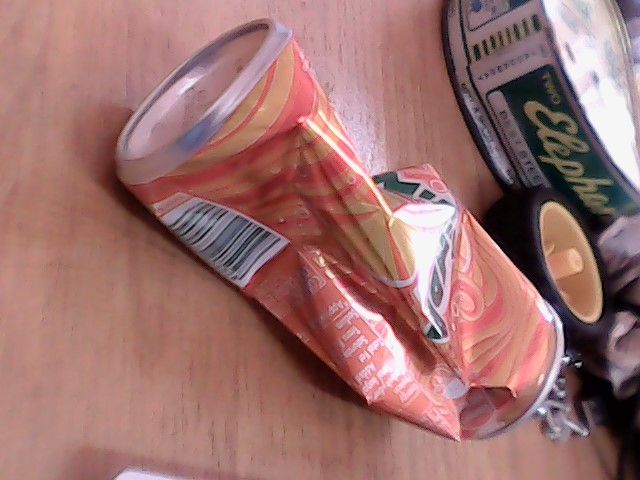Metal: (172, 32, 496, 480)
